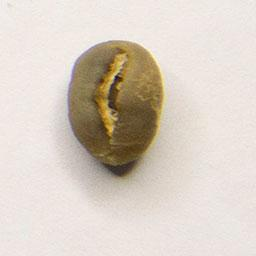peaberry: (66, 37, 165, 171)
